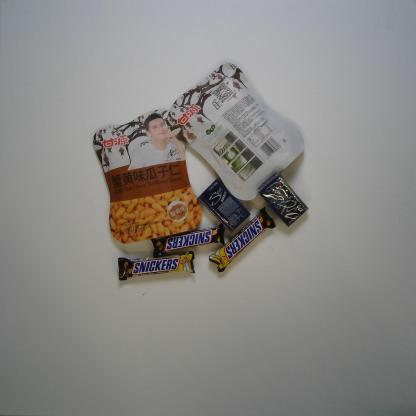Chocolate: (208, 207, 276, 273), (150, 223, 226, 257), (118, 250, 196, 281)
Dried Fruit: (164, 63, 304, 201), (92, 110, 202, 244)
Gum: (198, 179, 251, 233), (256, 172, 308, 227)
